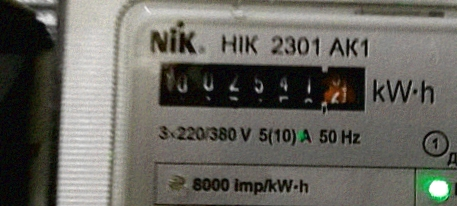0: (172, 68, 191, 95), (200, 66, 215, 94)
1: (300, 68, 314, 95)
2: (224, 67, 241, 93)
4: (277, 68, 290, 91)
5: (249, 67, 268, 96)
6: (327, 86, 343, 104)
screen: (146, 45, 381, 125)
